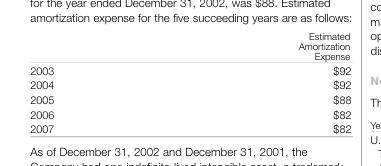table: (29, 29, 350, 134)
table column: (175, 29, 350, 134), (29, 29, 175, 134)
table column header: (29, 29, 350, 62)
table row: (29, 29, 350, 62), (29, 76, 350, 91), (29, 91, 350, 106), (29, 106, 350, 121), (29, 62, 350, 76), (29, 121, 350, 134)
